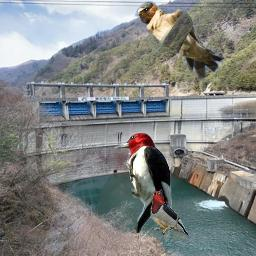Swallow: (135, 1, 225, 80)
Woodpecker: (113, 132, 173, 233), (149, 187, 192, 241)
